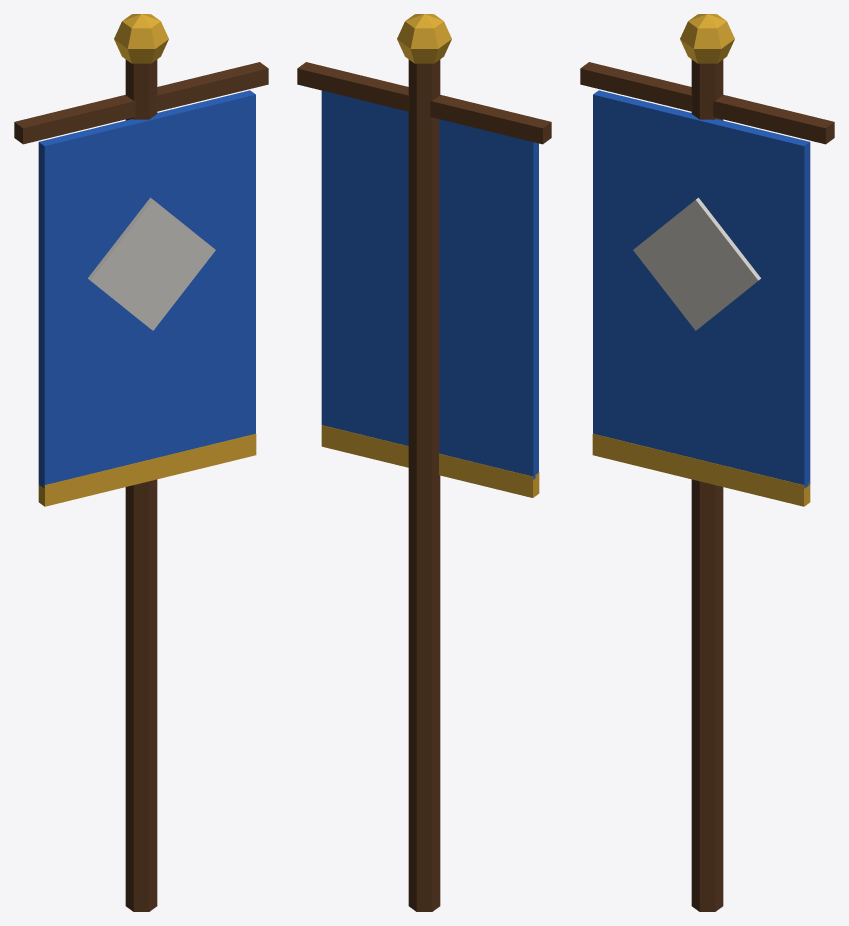
The model's file is banner.fbx.
The picture shows the model from 3 angles, left to right: view 1: azimuth 30°, elevation 25°; view 2: azimuth 150°, elevation 25°; view 3: azimuth 330°, elevation 25°; orthographic projection.
Parts seen in each view (by area): view 1: banner_Main; view 2: banner_Main; view 3: banner_Main.
Boxes of the visible parts, left/top/right/bottom form: banner_Main: left=14, top=14, right=268, bottom=911; banner_Main: left=297, top=14, right=551, bottom=911; banner_Main: left=580, top=14, right=834, bottom=911.
Bounding box in the file's own units: 0.72 × 2.5 × 0.14.
